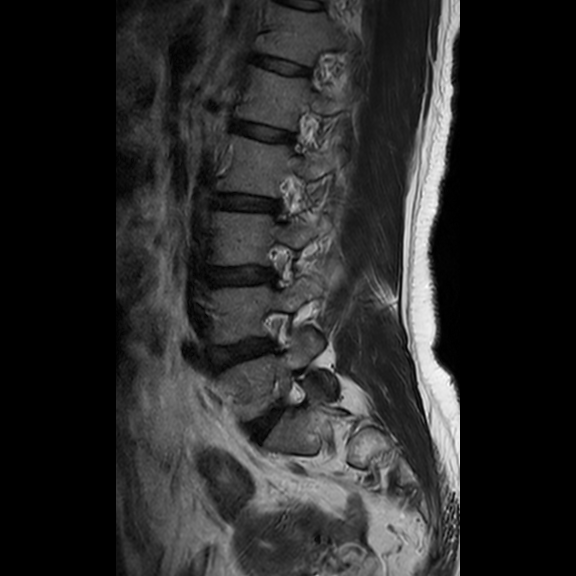RFS0: (251, 297, 303, 360)
